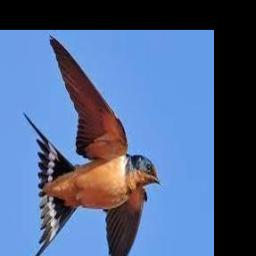Swallow: (23, 35, 164, 256)
